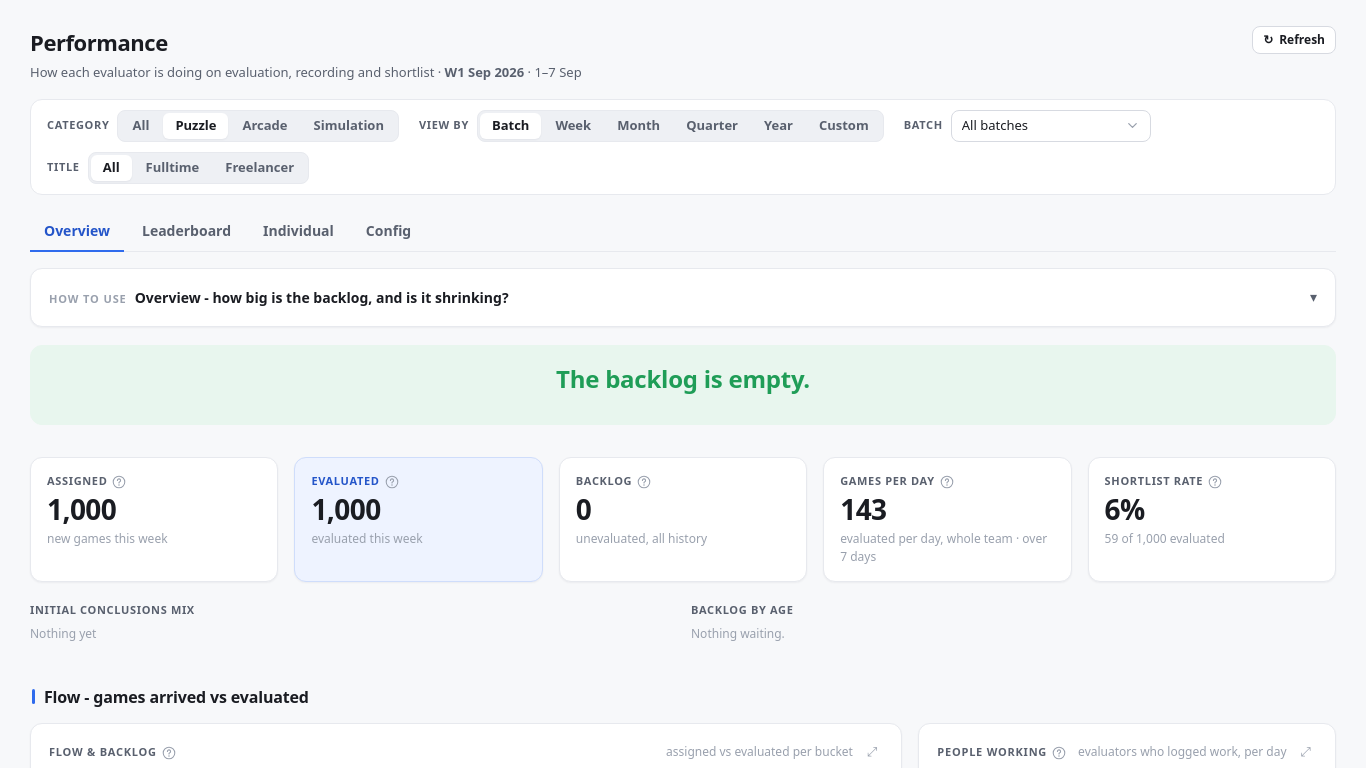
it: Config tab: sections, live rules, one save bar › is six sections with a list of them, and no score preview
Click the button "Config" at {"x": 388, "y": 231}, box [352,210,425,252]
(page scrolled)
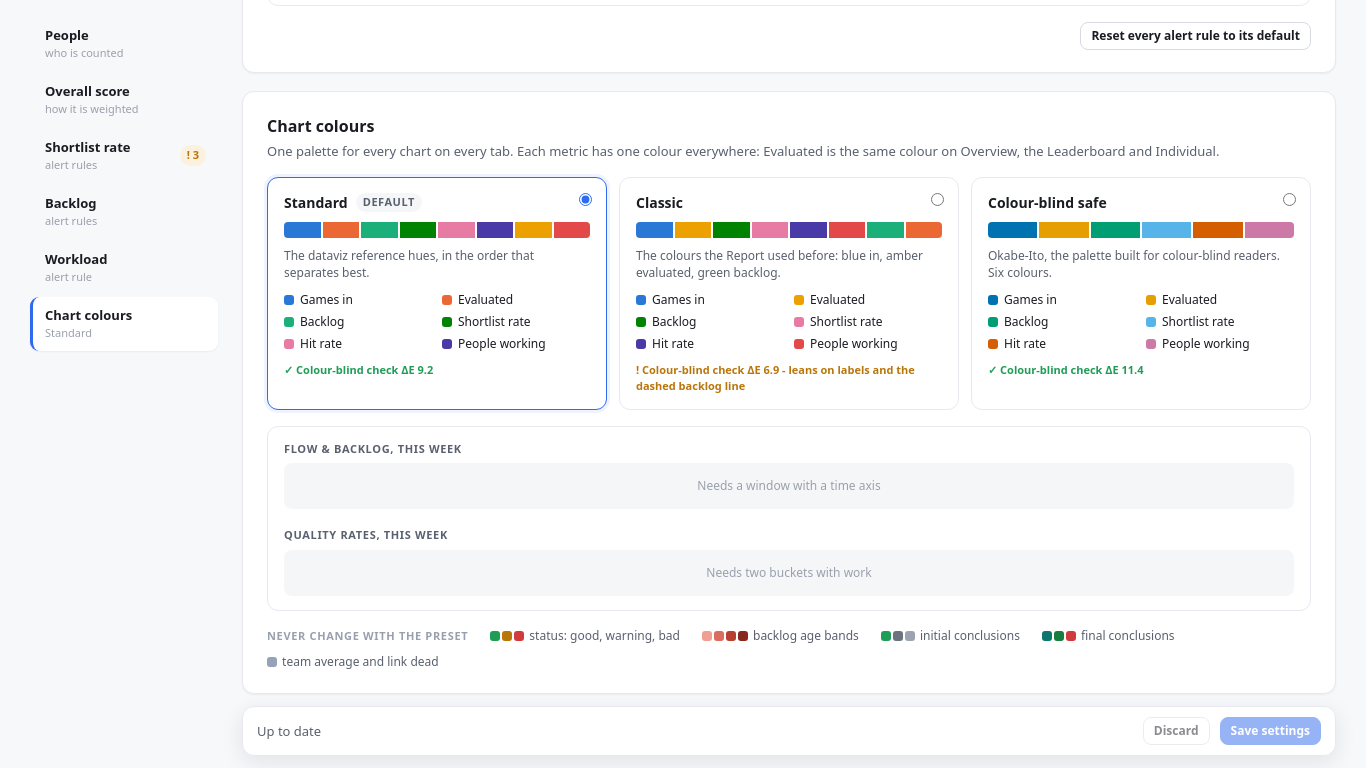
Expected: the element with id "cfg-colours" is shown
